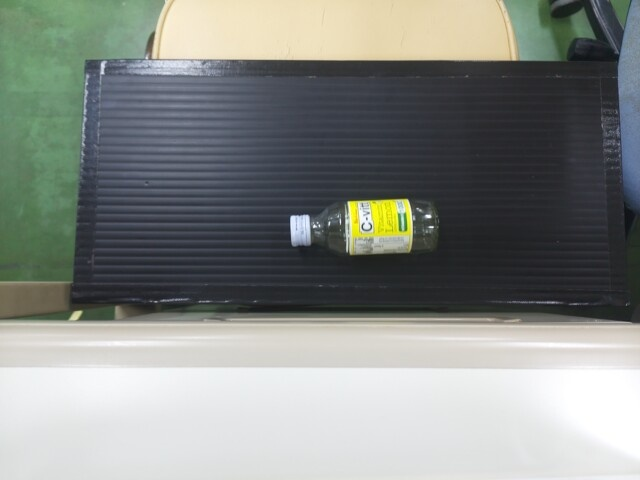glass_bottle: (288, 195, 438, 257)
